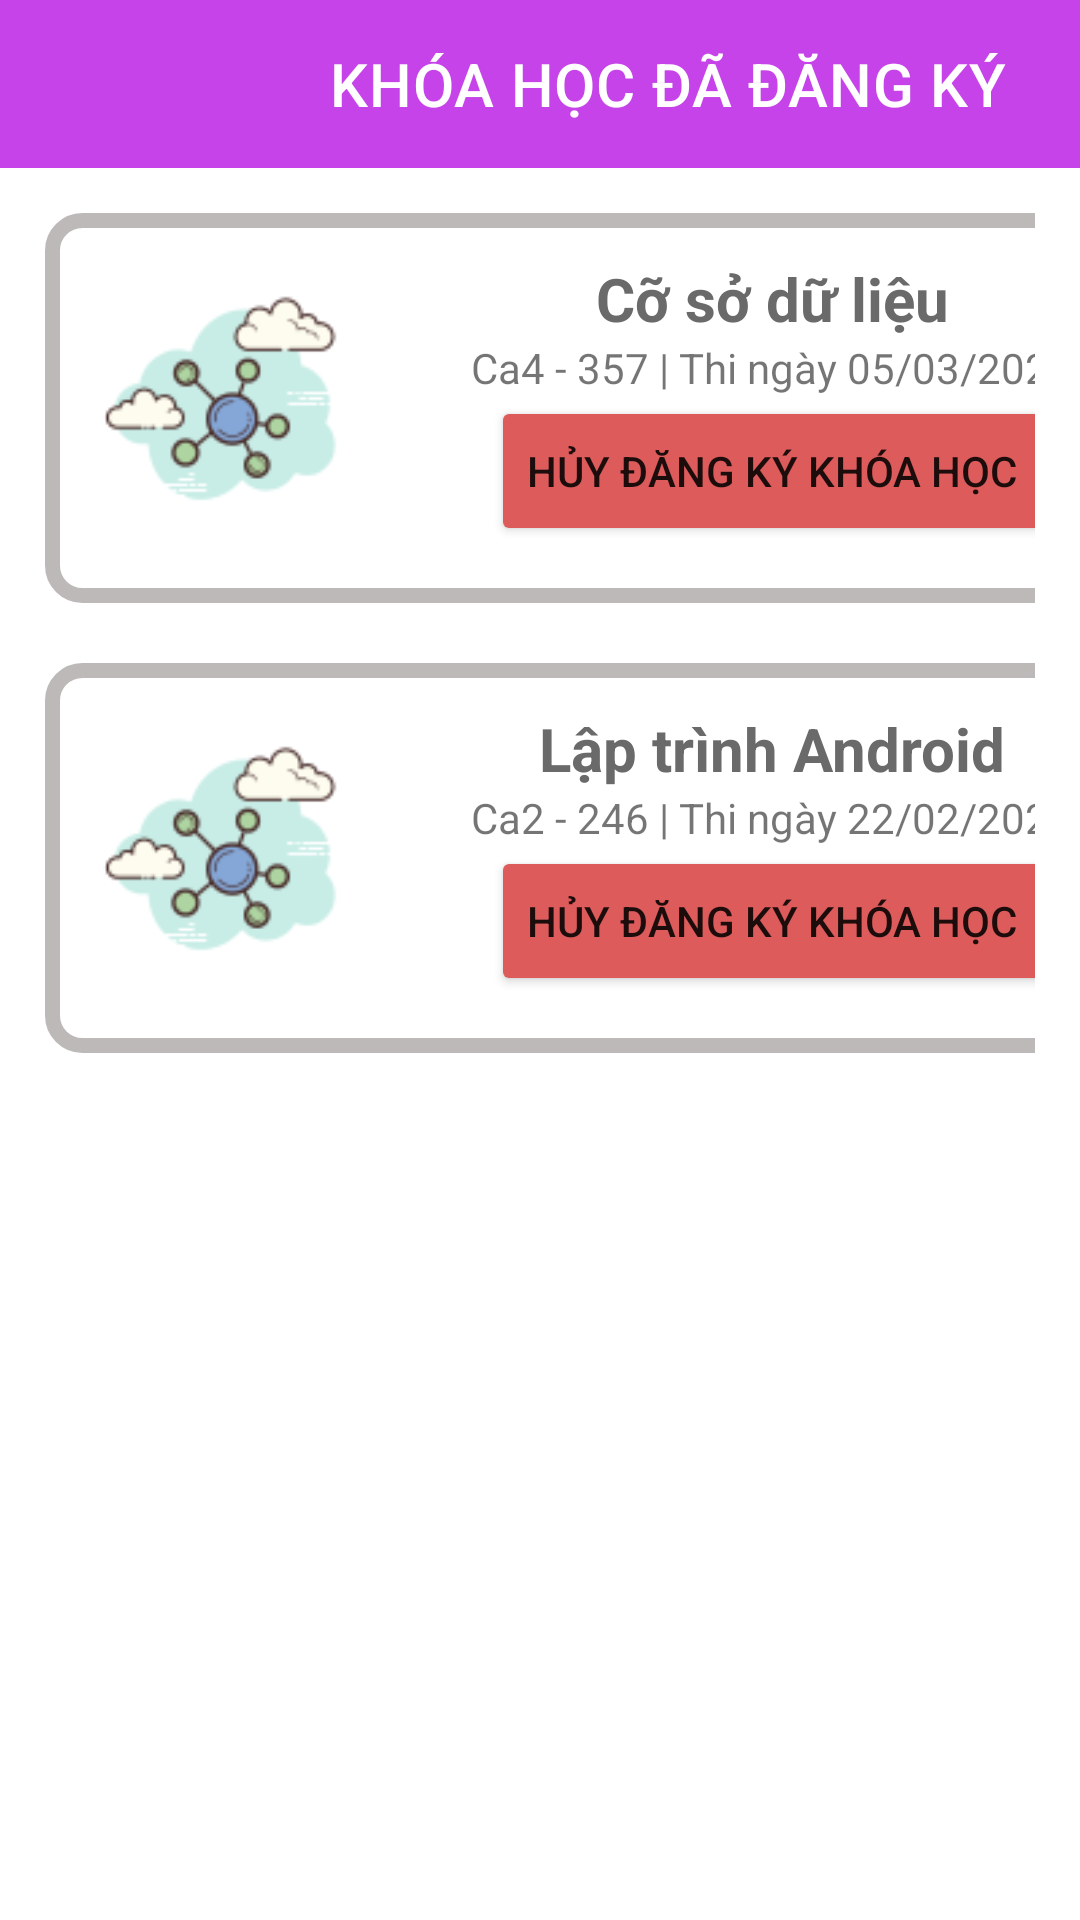

Screen size 1080*1920. Icon name, then its box in pixels as (x1, y1, x2, y2):
neural: (105, 296, 336, 500), (105, 746, 336, 950)
